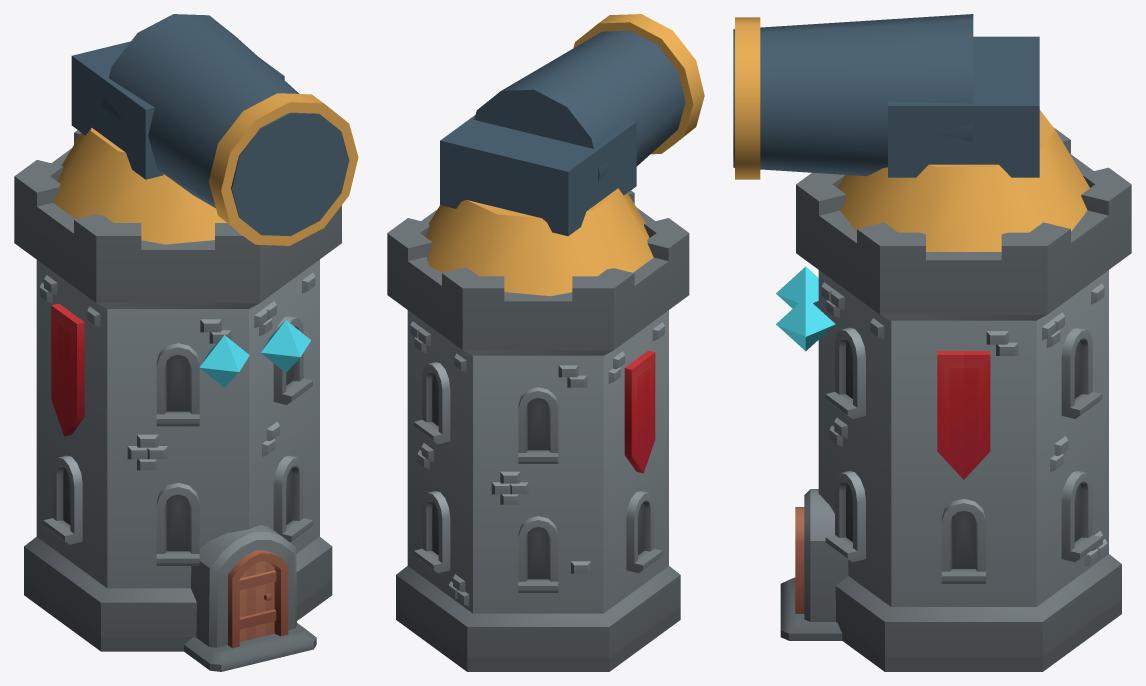
Rendered from tower_cannon_l2.glb.
3 renders of one model, left to right at view 1: azimuth 30°, elevation 25°; view 2: azimuth 150°, elevation 25°; view 3: azimuth 270°, elevation 25°, orthographic. The views are drawn at different scales.
Visible parts, largest first — view 1: Base, BarrelAssembly, Turret; view 2: Base, BarrelAssembly, Turret; view 3: Base, BarrelAssembly, Turret.
Boxes of the visible parts, x1,y1,x2,y2 form: Base: (14,130,341,671); BarrelAssembly: (71,14,358,245); Turret: (53,127,226,244); Base: (387,190,689,671); BarrelAssembly: (440,14,704,236); Turret: (426,188,653,296); Base: (776,128,1131,671); BarrelAssembly: (733,14,1039,179); Turret: (838,110,1089,251).
Bounding box in the file's own units: 0.9298 × 2.07 × 1.26.
Materials: 4 (1 with a texture image).
